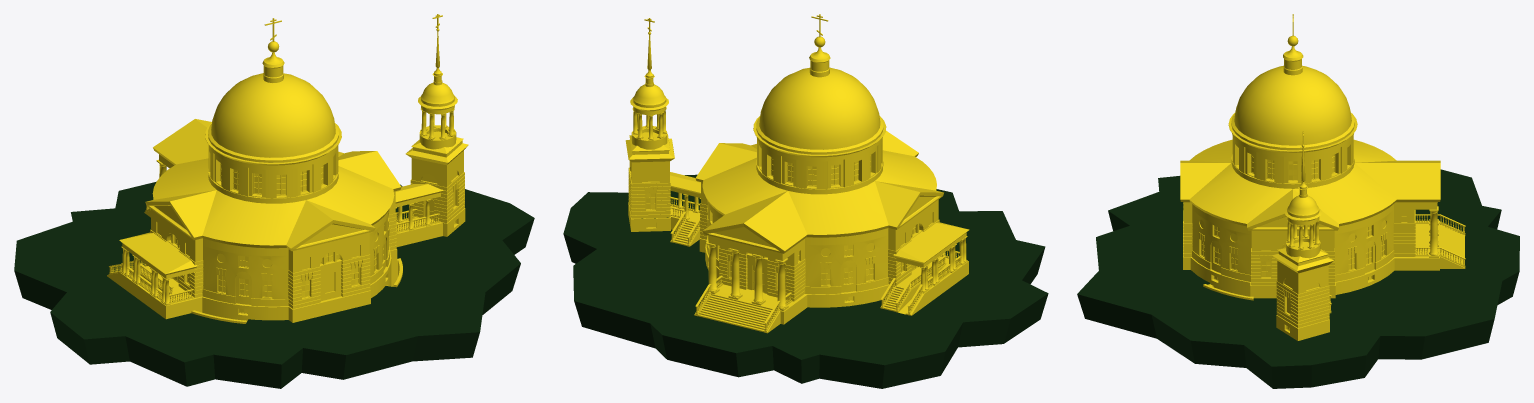
The model's file is church3d_verA04.fbx.
3 renders of one model, left to right at view 1: azimuth 30°, elevation 25°; view 2: azimuth 150°, elevation 25°; view 3: azimuth 270°, elevation 25°, orthographic. The views are drawn at different scales.
Visible parts, largest first — view 1: part_08_000, part_10_000, part_10_007, part_01_031, part_01_081, part_01_060, part_01_082, part_10_001, part_01_069, part_01_083, part_13_005, part_13_012 (+18 smaller); view 2: part_08_000, part_10_000, part_10_007, part_01_044, part_01_047, part_01_036, part_04_021, part_01_082, part_10_001, part_13_011, part_13_005, part_01_084 (+19 smaller); view 3: part_08_000, part_10_000, part_10_007, part_01_054, part_01_049, part_01_084, part_01_057, part_01_052, part_01_083, part_01_037, part_13_005, part_01_069 (+16 smaller).
Part boxes in pixels (x1,y1,x2,y2): part_08_000: (14, 181, 534, 388); part_10_000: (146, 119, 401, 248); part_10_007: (208, 73, 338, 160); part_01_031: (203, 246, 288, 298); part_01_081: (202, 271, 288, 320); part_01_060: (288, 254, 370, 308); part_01_082: (107, 266, 202, 319); part_10_001: (119, 232, 197, 273); part_01_069: (390, 208, 465, 286); part_01_083: (411, 150, 463, 223); part_13_005: (205, 123, 341, 169); part_13_012: (286, 220, 375, 258); part_08_000: (563, 174, 1048, 388); part_10_000: (695, 130, 943, 250); part_10_007: (756, 67, 883, 152); part_01_044: (805, 235, 888, 286); part_01_047: (805, 260, 888, 307); part_01_036: (719, 248, 805, 301); part_04_021: (698, 294, 776, 332); part_01_082: (880, 256, 968, 315); part_10_001: (893, 222, 969, 262); part_13_011: (702, 223, 807, 260); part_13_005: (753, 115, 886, 161); part_01_084: (628, 167, 670, 218); part_08_000: (1077, 169, 1519, 388); part_10_000: (1180, 139, 1440, 227); part_10_007: (1231, 66, 1354, 147); part_01_054: (1192, 210, 1251, 274); part_01_049: (1334, 210, 1393, 274); part_01_084: (1276, 281, 1329, 327); part_01_057: (1190, 240, 1250, 296); part_01_052: (1335, 240, 1394, 294); part_01_083: (1277, 261, 1328, 327); part_01_037: (1394, 220, 1465, 270); part_13_005: (1228, 113, 1357, 156); part_01_069: (1250, 282, 1335, 340).
Size of the model in its own units: 6055 by 3506 by 5334.
